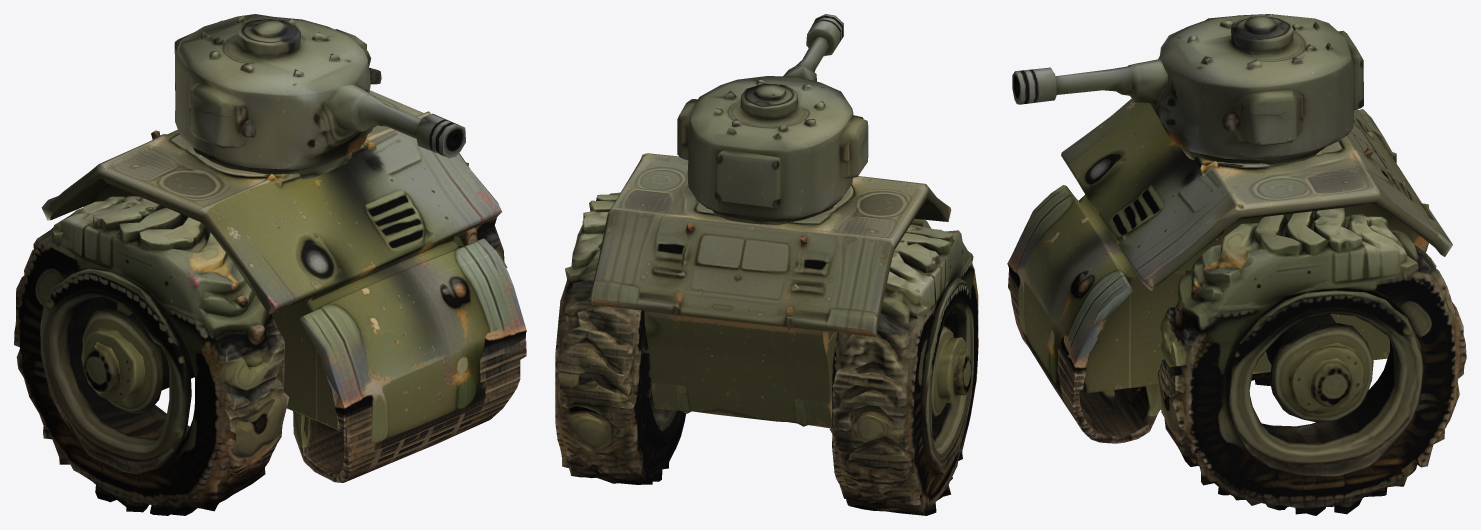
File: Tqa.obj
3 renders of one model, left to right at view 1: azimuth 30°, elevation 25°; view 2: azimuth 150°, elevation 25°; view 3: azimuth 270°, elevation 25°, orthographic. The views are drawn at different scales.
Parts seen in each view (by area): view 1: TankBodygeom1, Wheelgeom1, Turretgeom1; view 2: TankBodygeom1, Wheelgeom1, Turretgeom1; view 3: Wheelgeom1, TankBodygeom1, Turretgeom1.
Boxes of the visible parts, x1,y1,x2,y2 form: TankBodygeom1: (41,90,526,482); Wheelgeom1: (14,162,507,515); Turretgeom1: (174,14,465,179); TankBodygeom1: (590,153,951,428); Wheelgeom1: (555,192,978,515); Turretgeom1: (677,14,868,224); Wheelgeom1: (1157,208,1466,515); TankBodygeom1: (1007,98,1452,443); Turretgeom1: (1012,14,1363,167).
Size of the model in its own units: 12.18 by 12.43 by 12.3.
3 materials, 3 textured.
